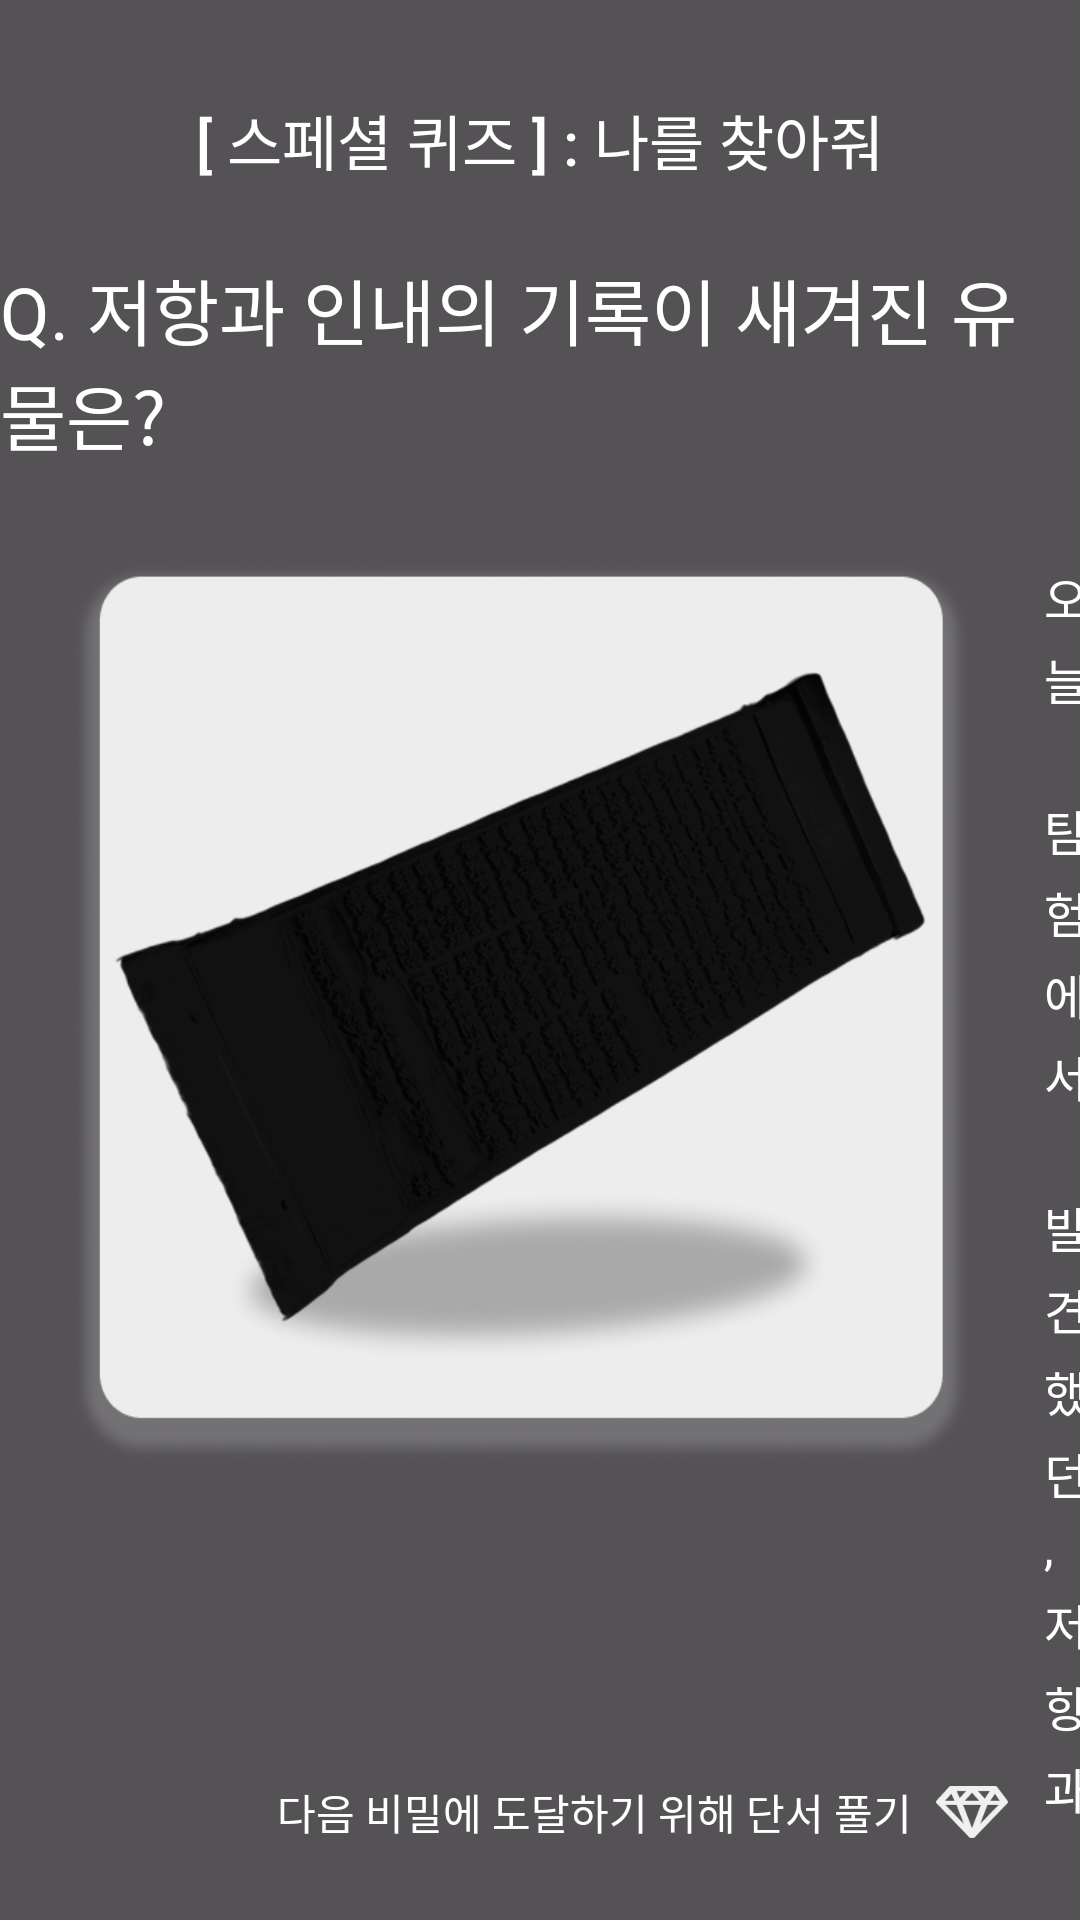

Where icons sit on this 1080px x 1920px app screen, as (x1, y1, x2, y2):
diamond: (936, 1786, 1008, 1838)
